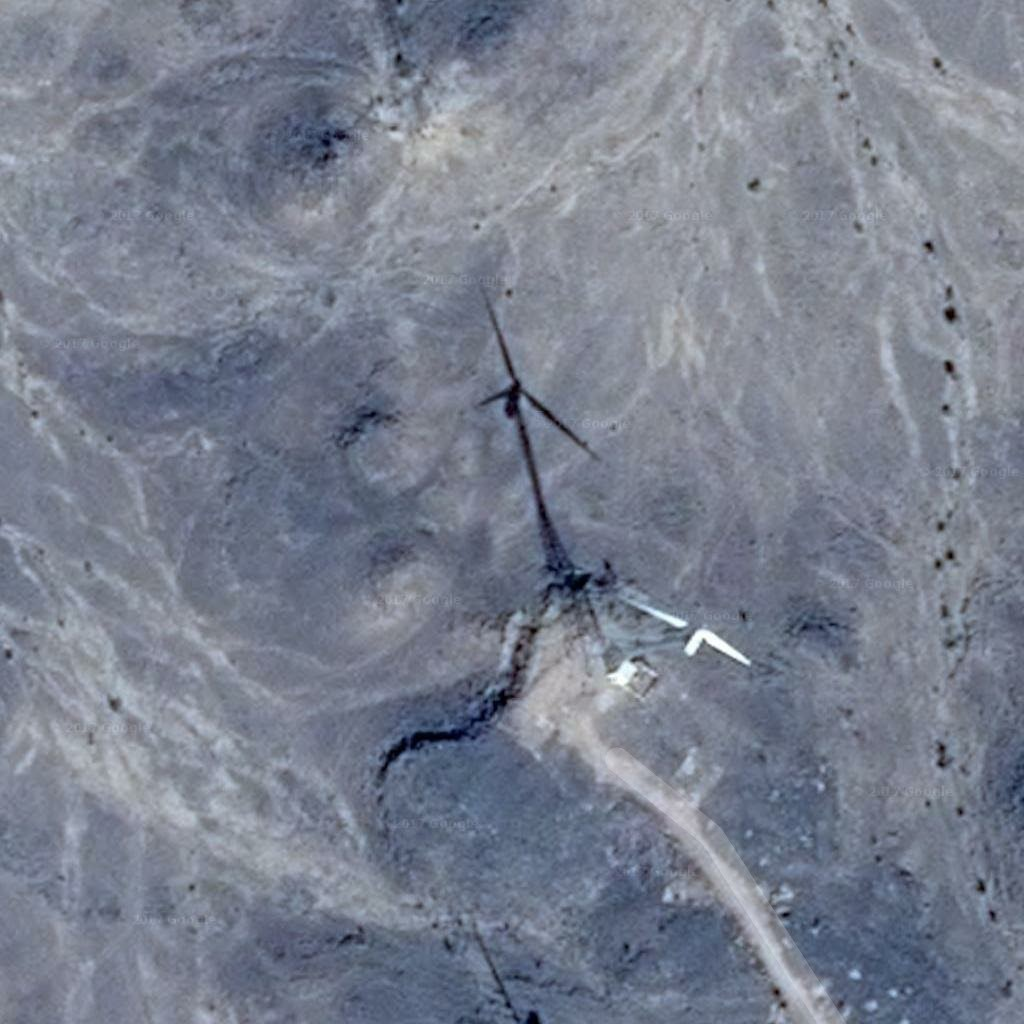Windmill: (462, 280, 595, 589)
